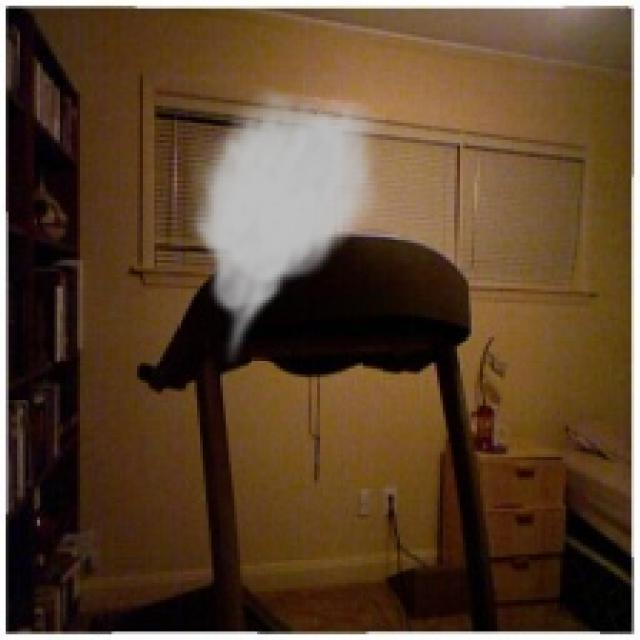Smoke: (185, 85, 388, 368)
